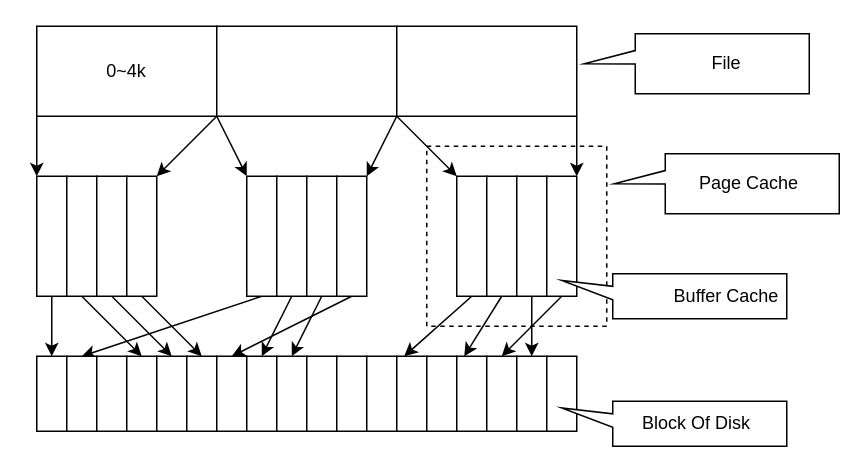
Image size: 866x473. Some labels were removed from this diagram. The shapes that lost their labels are listed below. From the top down, each one's centre as x and y in pixels, then its label:
At [306,70]: "4k~8k".
At [486,70]: "8k~12k".
